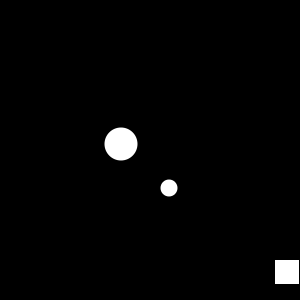circle: (275, 260, 299, 284)
rectangle: (104, 128, 138, 160), (160, 180, 178, 196)
